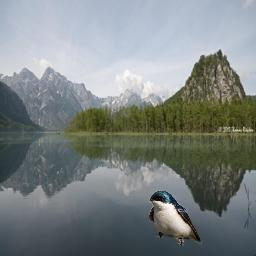Swallow: (149, 190, 202, 246)
